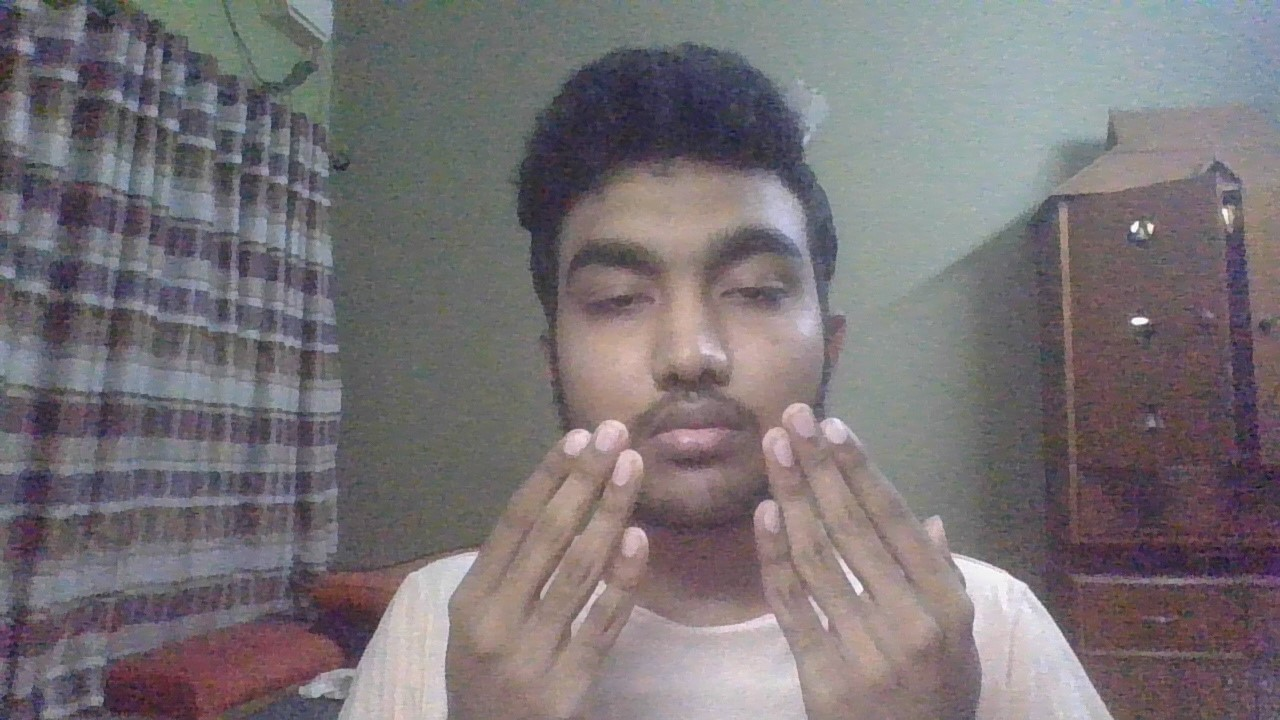Thank You: (430, 406, 989, 720)
